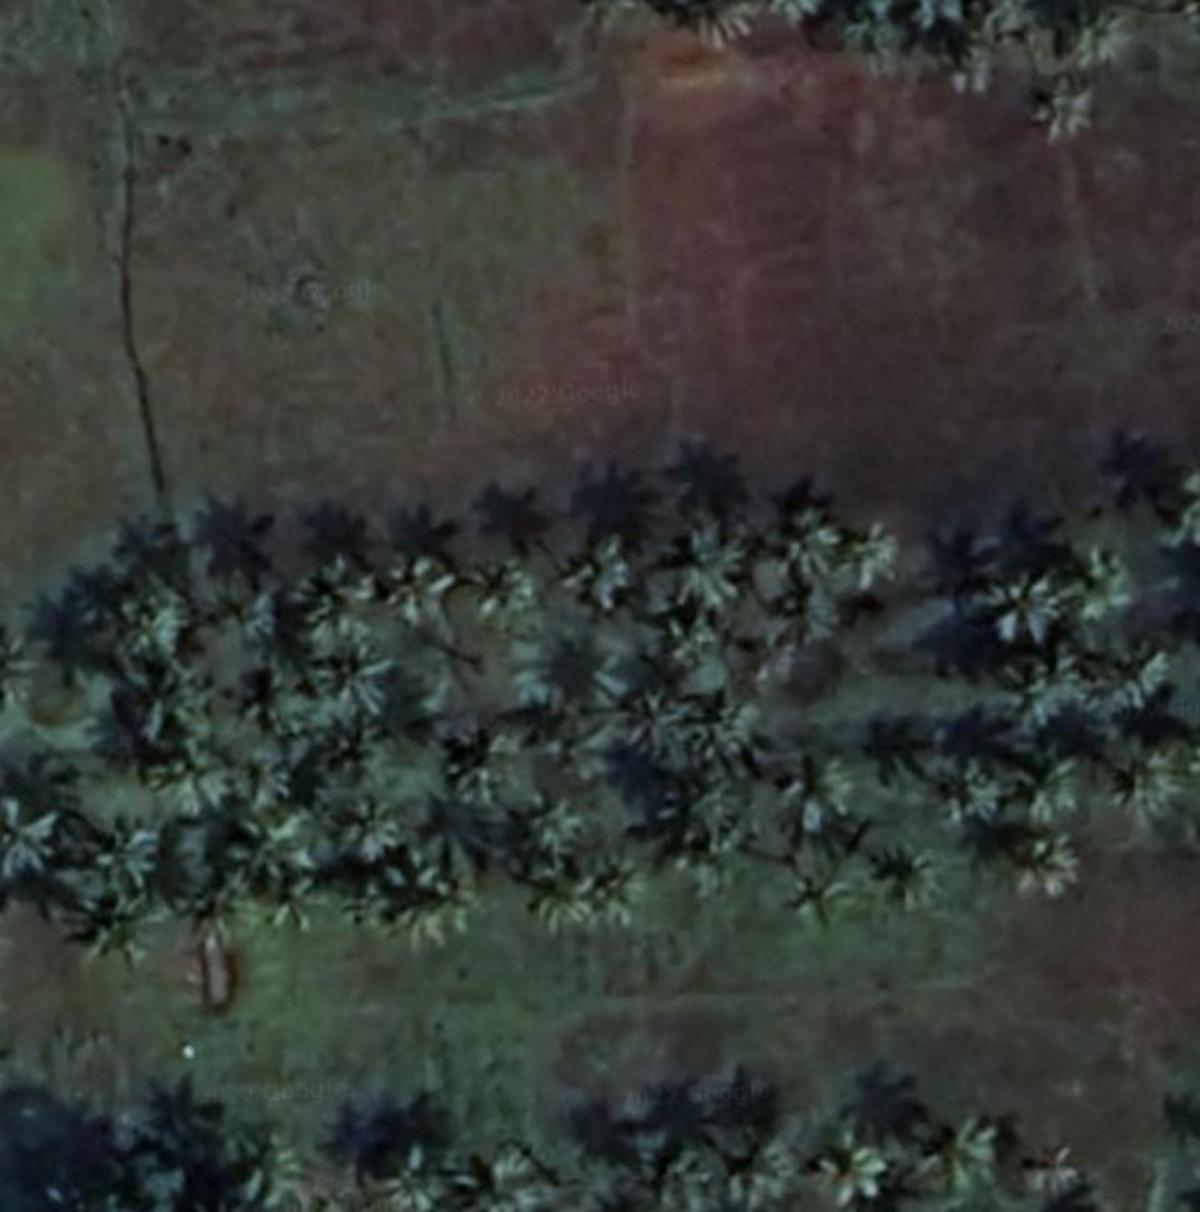coconut: (989, 821, 1091, 920), (908, 1112, 1012, 1201), (145, 742, 238, 835), (287, 559, 376, 648), (334, 783, 424, 871), (769, 742, 856, 831), (553, 532, 646, 613), (303, 646, 397, 727), (1098, 740, 1179, 831), (526, 868, 603, 961), (451, 551, 536, 634), (112, 580, 195, 663), (378, 552, 467, 627), (1051, 538, 1133, 619), (442, 735, 534, 807), (613, 679, 692, 760), (74, 879, 149, 964), (571, 850, 653, 929), (915, 744, 1000, 818), (191, 868, 264, 954), (995, 634, 1066, 718), (875, 837, 954, 912), (815, 1124, 896, 1197), (1010, 750, 1085, 825), (775, 496, 851, 569), (462, 1145, 544, 1212), (663, 772, 732, 852), (653, 513, 719, 592), (97, 818, 162, 898), (786, 868, 851, 947), (977, 565, 1054, 631), (777, 572, 854, 638), (262, 868, 334, 937), (684, 692, 757, 760), (827, 519, 898, 588), (2, 800, 58, 887), (1098, 640, 1166, 710), (210, 577, 280, 644), (549, 713, 619, 779), (384, 1150, 451, 1207), (415, 881, 473, 945), (522, 796, 578, 848)
